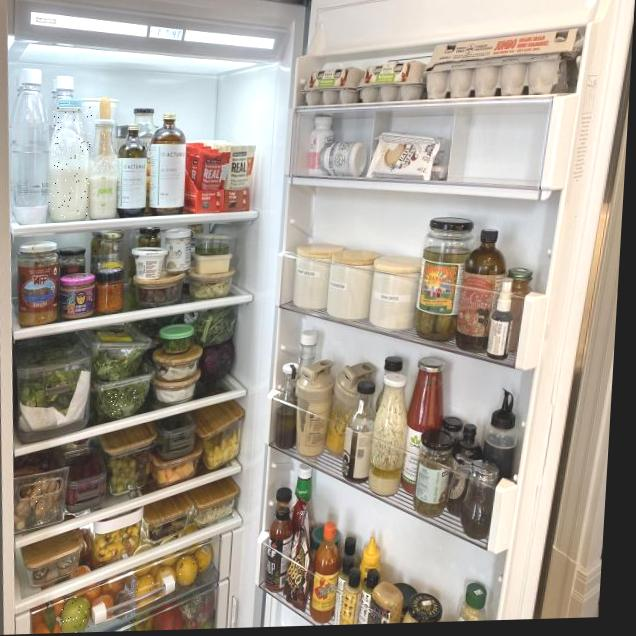apple: (60, 596, 89, 633)
ginger: (29, 477, 50, 505), (34, 499, 47, 519), (13, 517, 26, 531)
lemon: (176, 556, 199, 586), (194, 545, 212, 571), (136, 574, 156, 596), (157, 566, 176, 587)
milk: (47, 98, 95, 219)
parsley: (101, 390, 139, 414)
